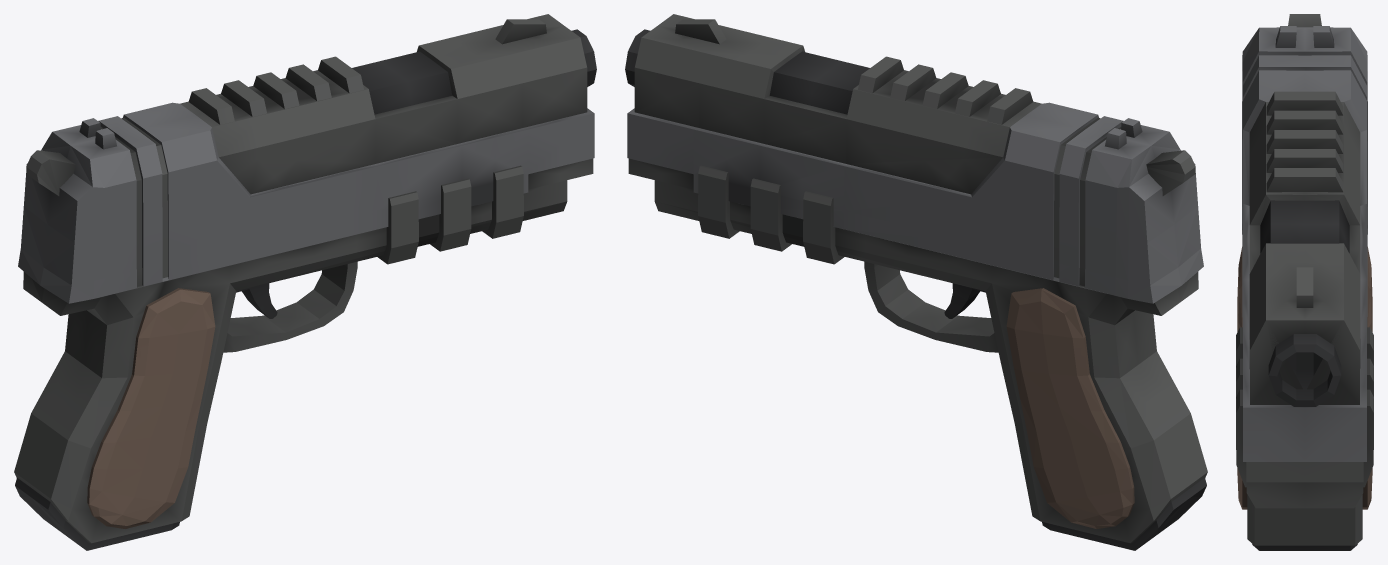
File: q-pistol-3.glb
The picture shows the model from 3 angles, left to right: view 1: azimuth 30°, elevation 25°; view 2: azimuth 150°, elevation 25°; view 3: azimuth 270°, elevation 25°; orthographic projection. The views are drawn at different scales.
Visible parts, largest first — view 1: slide, frame; view 2: slide, frame; view 3: slide, frame, barrel.
Boxes of the visible parts, left/top/right/bottom form: slide: left=18, top=14, right=594, bottom=303; frame: left=14, top=165, right=567, bottom=550; slide: left=627, top=14, right=1203, bottom=303; frame: left=654, top=165, right=1207, bottom=550; slide: left=1242, top=14, right=1367, bottom=482; frame: left=1236, top=247, right=1373, bottom=550; barrel: left=1268, top=334, right=1341, bottom=406.
Size of the model in its own units: 0.22 by 0.1542 by 0.0392.
